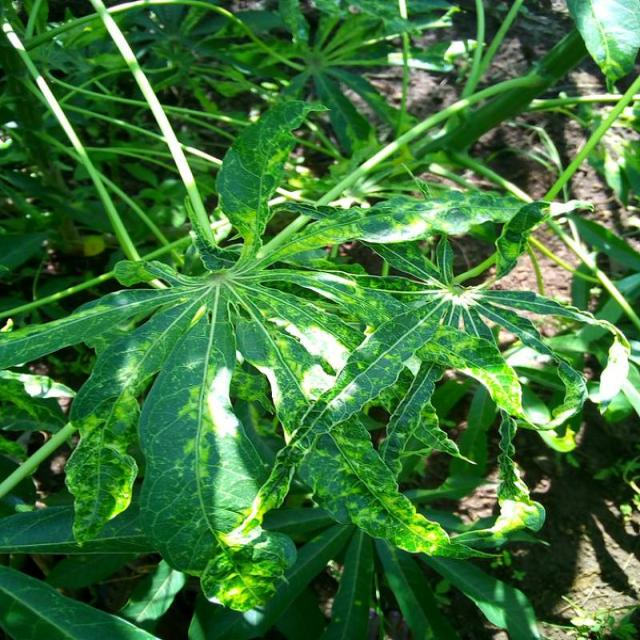cassava leaf: (1, 92, 630, 626)
